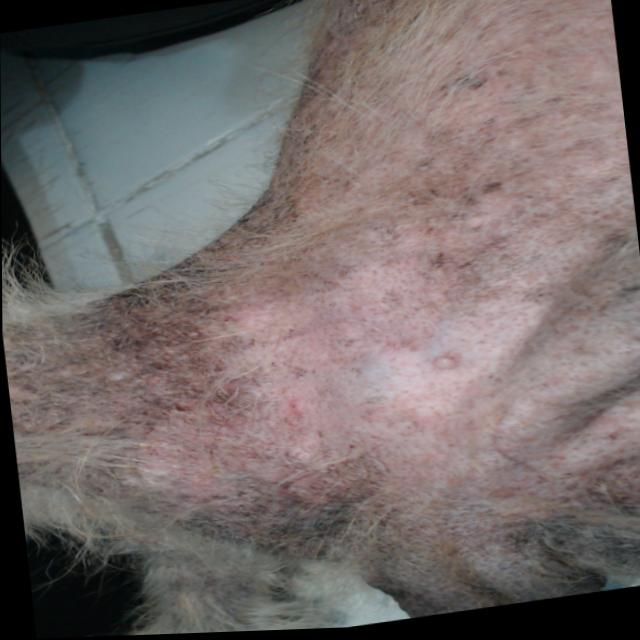demodicosis: (15, 294, 206, 478), (190, 472, 309, 554)
